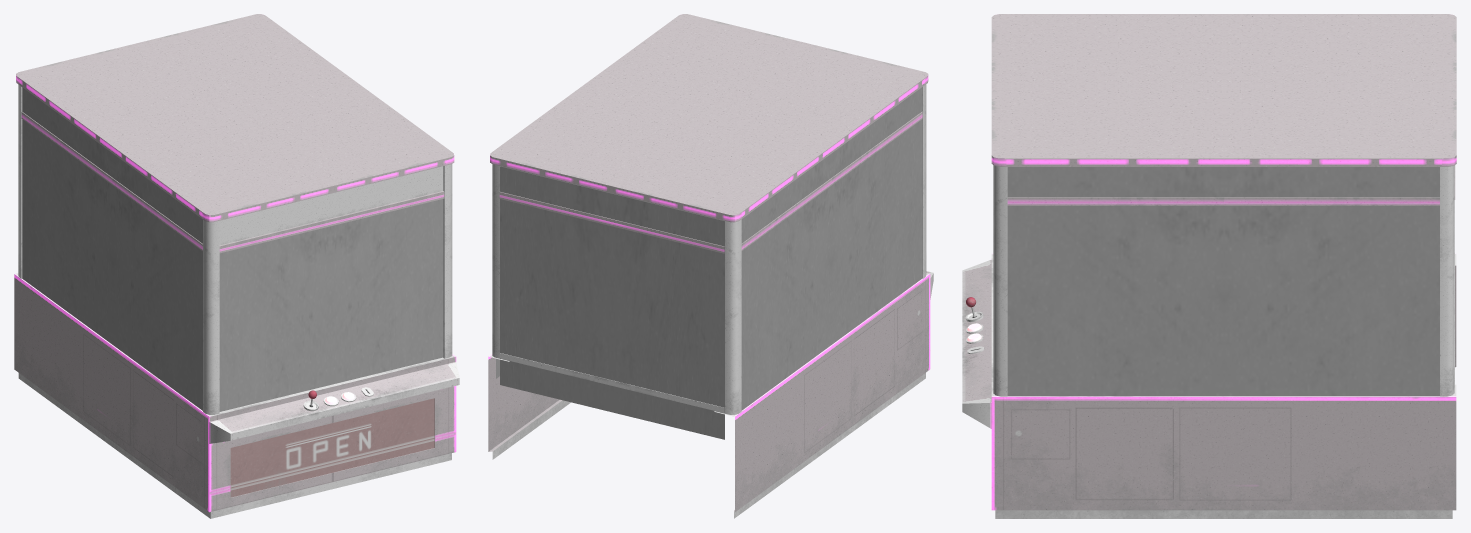
The model's file is crean_bg.fbx.
3 renders of one model, left to right at view 1: azimuth 30°, elevation 25°; view 2: azimuth 150°, elevation 25°; view 3: azimuth 270°, elevation 25°, orthographic. The views are drawn at different scales.
Visible parts, largest first — view 1: Cut_creangame_01, Game_glass, Game_exit; view 2: Cut_creangame_01, Game_glass; view 3: Cut_creangame_01, Game_glass.
Part boxes in pixels (x1,y1,x2,y2): Cut_creangame_01: (14, 14, 459, 518); Game_glass: (22, 87, 443, 411); Game_exit: (230, 398, 434, 497); Cut_creangame_01: (488, 14, 933, 518); Game_glass: (496, 87, 922, 439); Cut_creangame_01: (962, 14, 1456, 518); Game_glass: (1007, 167, 1439, 396).
Size of the model in its own units: 150 by 175 by 217.
Materials: 3 (3 with a texture image).
